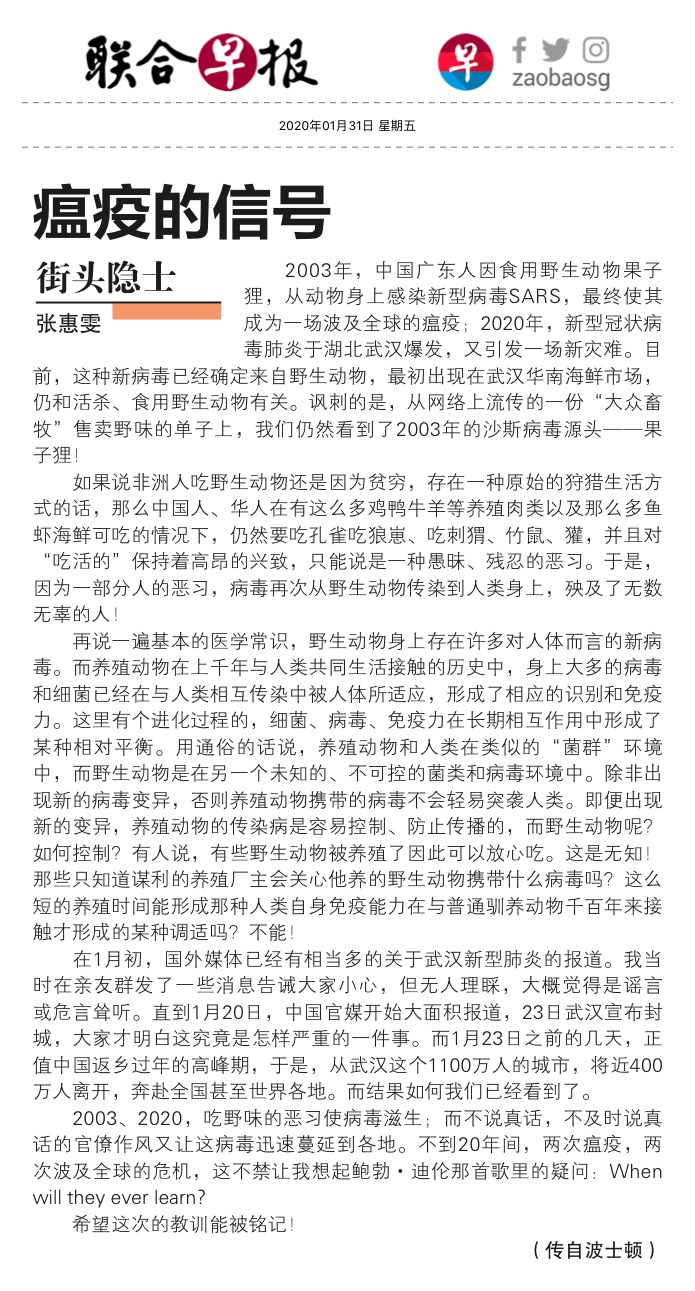heading_test: (25, 178, 337, 244)
